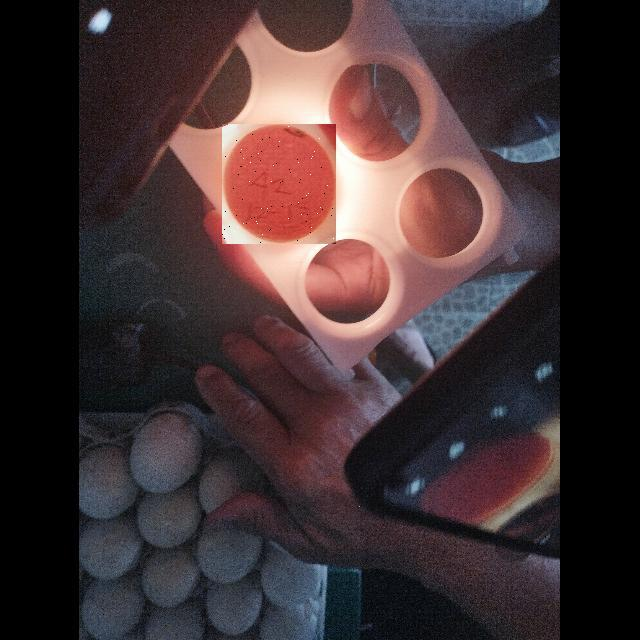A - Good: (222, 124, 336, 244)
